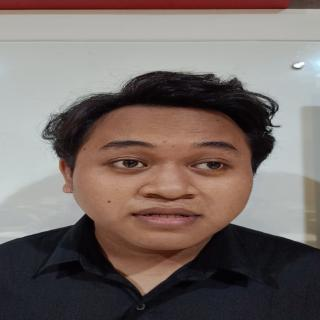Takut: (61, 96, 250, 266)
